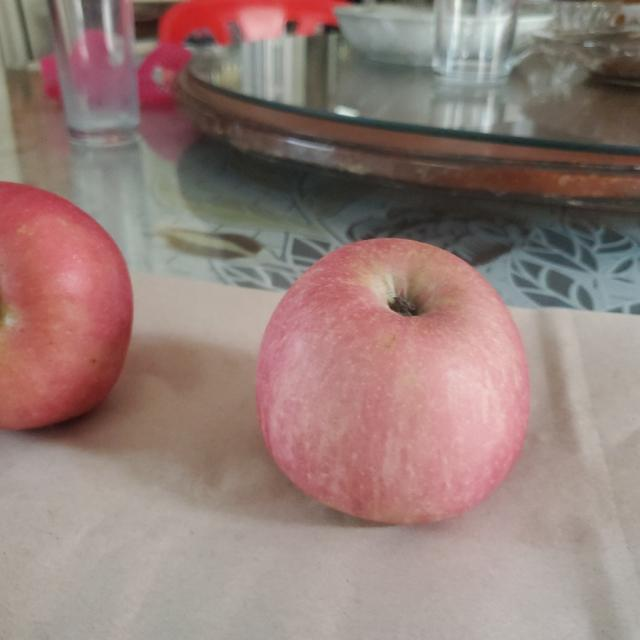apple: (258, 240, 534, 528), (0, 179, 132, 427)
